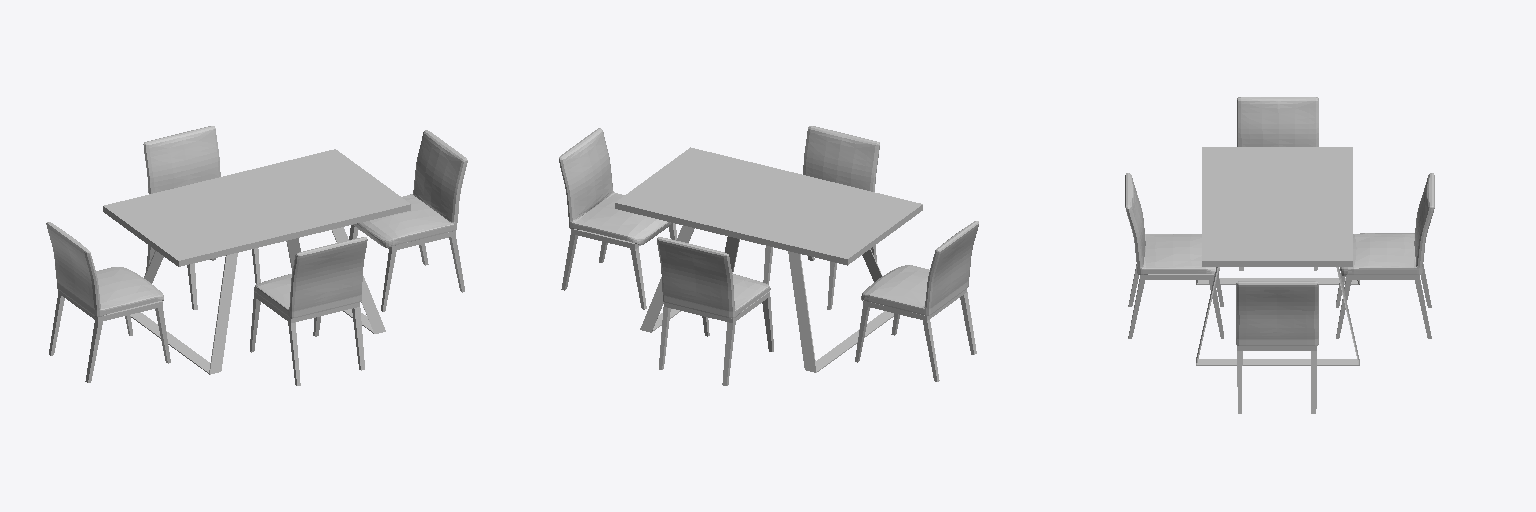
The model's file is TableChairs.obj.
The picture shows the model from 3 angles: view 1: azimuth 30°, elevation 25°; view 2: azimuth 150°, elevation 25°; view 3: azimuth 270°, elevation 25°; orthographic projection.
Visible parts, largest first — view 1: tavolo, sedia2, sedia1, sedia3, sedia4; view 2: tavolo, sedia4, sedia1, sedia3, sedia2; view 3: tavolo, sedia1, sedia4, sedia2, sedia3.
Part boxes in pixels (x1,y1,x2,y2): tavolo: (103, 149, 410, 374); sedia2: (250, 237, 367, 385); sedia1: (349, 130, 467, 311); sedia3: (46, 222, 170, 382); sedia4: (143, 126, 260, 309); tavolo: (615, 147, 922, 372); sedia4: (657, 237, 773, 385); sedia1: (559, 128, 676, 309); sedia3: (855, 221, 978, 381); sedia2: (763, 126, 879, 309); tavolo: (1196, 147, 1359, 365); sedia1: (1236, 281, 1318, 413); sedia4: (1336, 173, 1434, 338); sedia2: (1125, 173, 1223, 338); sedia3: (1237, 97, 1318, 270).
Bounding box in the file's own units: 2.63 × 0.8734 × 1.85.